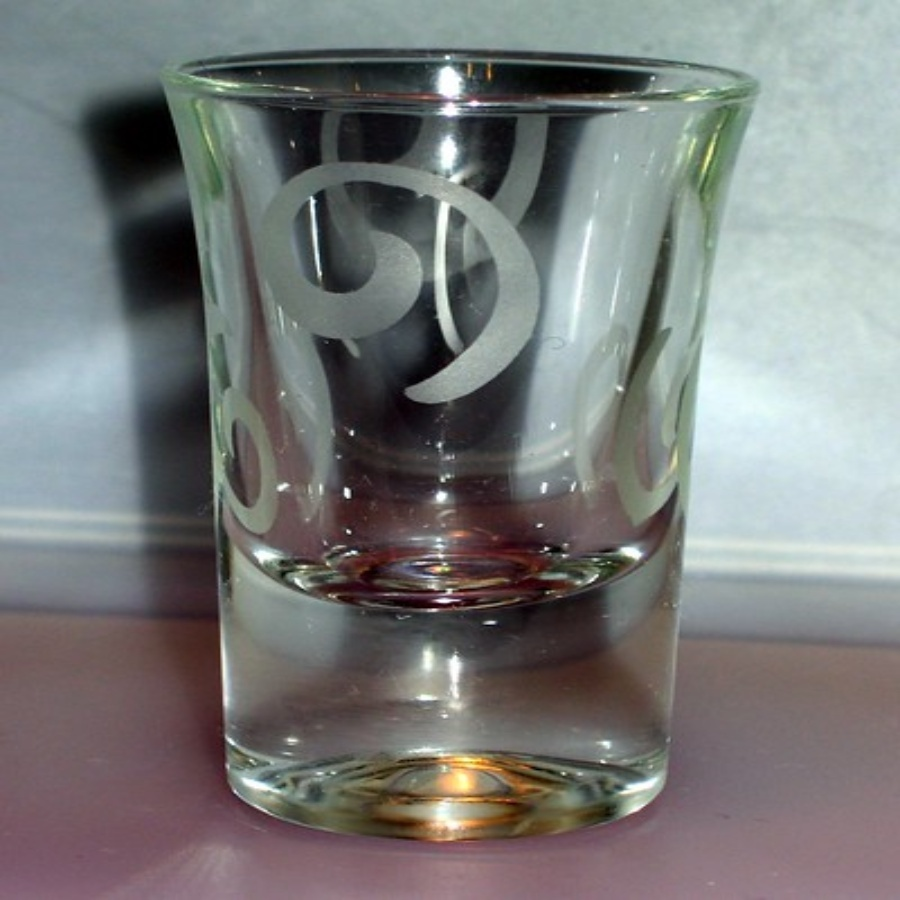whiskey: (200, 70, 733, 825)
